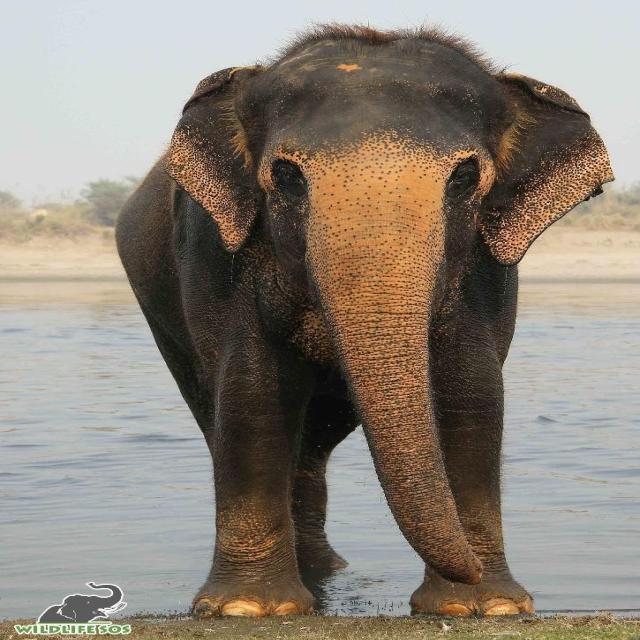Elephant: (114, 20, 614, 619)
